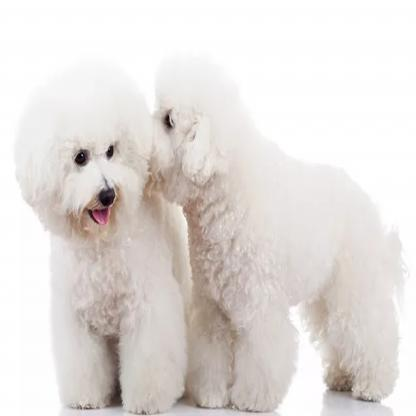Bichon Frise: (142, 43, 402, 399), (11, 65, 154, 393)
